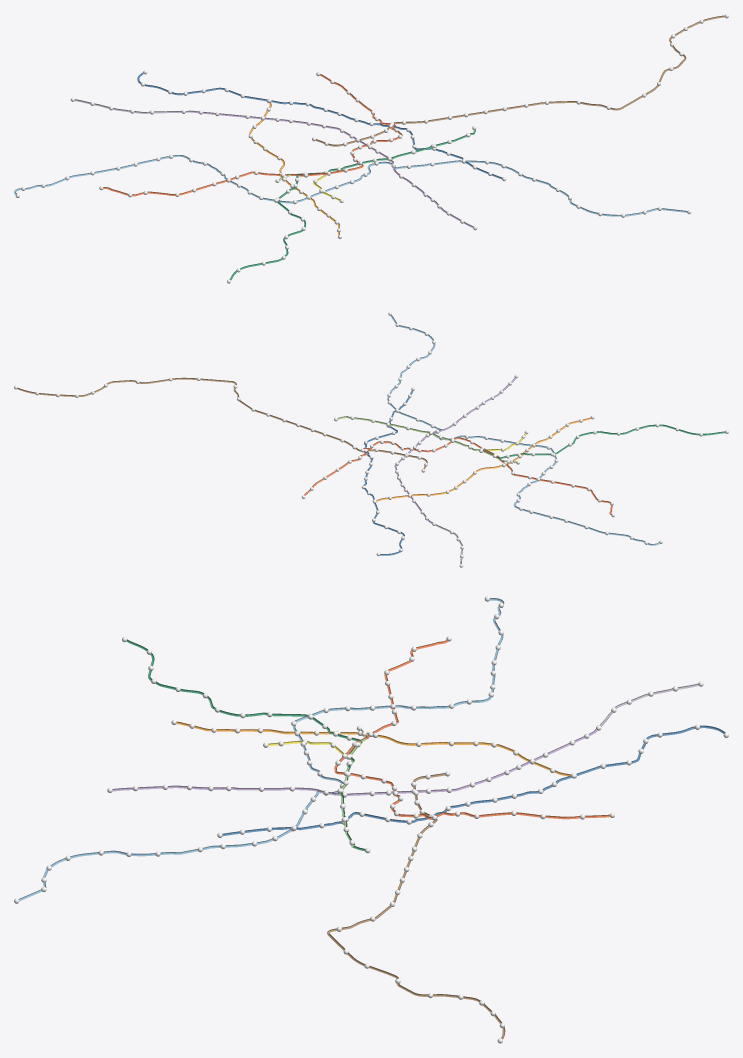
Rendered from berlin_ubahn.glb.
3 views of the same model, one above another, from view 1: azimuth 30°, elevation 25°; view 2: azimuth 150°, elevation 25°; view 3: azimuth 270°, elevation 25° (orthographic). The views are drawn at different scales.
Parts seen in each view (by area): view 1: Ligne_U7, Ligne_U5, Ligne_U2, Ligne_U8, Ligne_U3, Ligne_U6; view 2: Ligne_U7, Ligne_U5, Ligne_U2, Ligne_U3, Ligne_U8, Ligne_U9; view 3: Ligne_U7, Ligne_U8, Ligne_U2, Ligne_U6, Ligne_U5, Ligne_U9, Ligne_U3.
Part boxes in pixels (left/top/right/bottom): Ligne_U7: left=14, top=155, right=687, bottom=216; Ligne_U5: left=315, top=15, right=724, bottom=146; Ligne_U2: left=103, top=74, right=402, bottom=196; Ligne_U8: left=137, top=72, right=502, bottom=179; Ligne_U3: left=229, top=130, right=475, bottom=280; Ligne_U6: left=185, top=110, right=473, bottom=227; Ligne_U7: left=387, top=315, right=659, bottom=545; Ligne_U5: left=17, top=377, right=427, bottom=469; Ligne_U2: left=304, top=437, right=612, bottom=514; Ligne_U3: left=342, top=417, right=725, bottom=458; Ligne_U8: left=363, top=390, right=412, bottom=555; Ligne_U9: left=376, top=417, right=591, bottom=501; Ligne_U7: left=18, top=598, right=504, bottom=901; Ligne_U8: left=222, top=725, right=725, bottom=836; Ligne_U2: left=334, top=640, right=609, bottom=819; Ligne_U6: left=112, top=728, right=597, bottom=795; Ligne_U5: left=327, top=773, right=505, bottom=1039; Ligne_U9: left=176, top=721, right=570, bottom=776; Ligne_U3: left=126, top=639, right=365, bottom=850.
Bounding box in the file's own units: 295 × 2.9 × 200.
